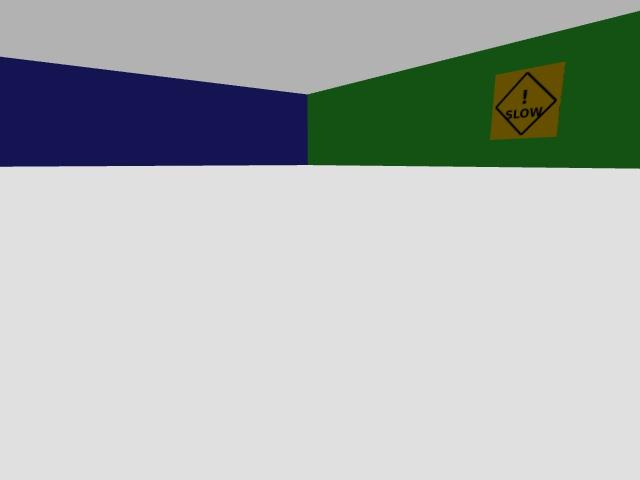slow: (491, 63, 565, 139)
